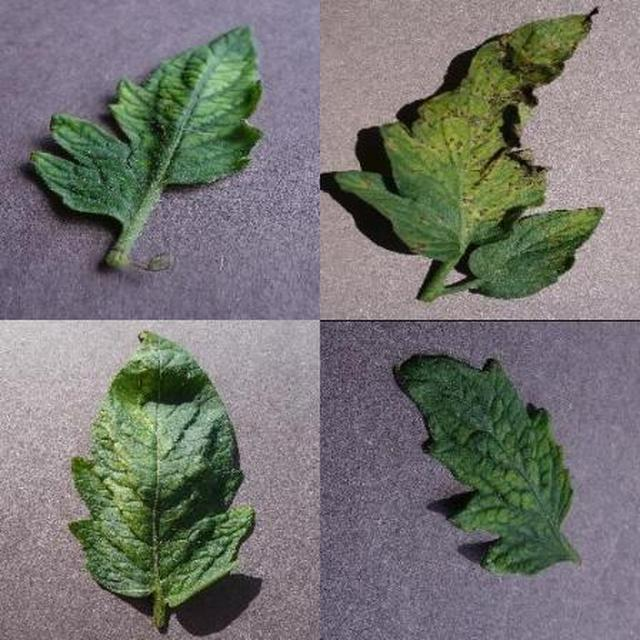Mosaic Virus Leaf: (212, 171, 640, 640)
